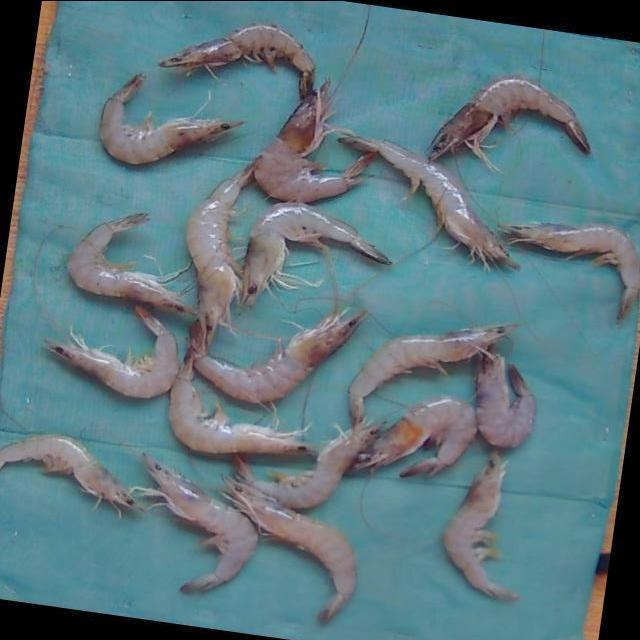shrimp: (339, 134, 519, 267), (224, 477, 357, 622), (132, 456, 258, 590), (168, 347, 320, 454), (194, 309, 366, 403), (350, 324, 518, 417), (242, 201, 391, 304), (430, 75, 591, 168), (255, 80, 375, 201), (500, 222, 640, 318), (67, 211, 195, 313), (99, 72, 242, 163), (186, 162, 254, 352), (44, 304, 180, 398), (233, 424, 381, 509), (158, 22, 315, 96), (444, 451, 520, 601), (0, 434, 144, 511), (351, 396, 478, 476), (477, 353, 537, 447)
